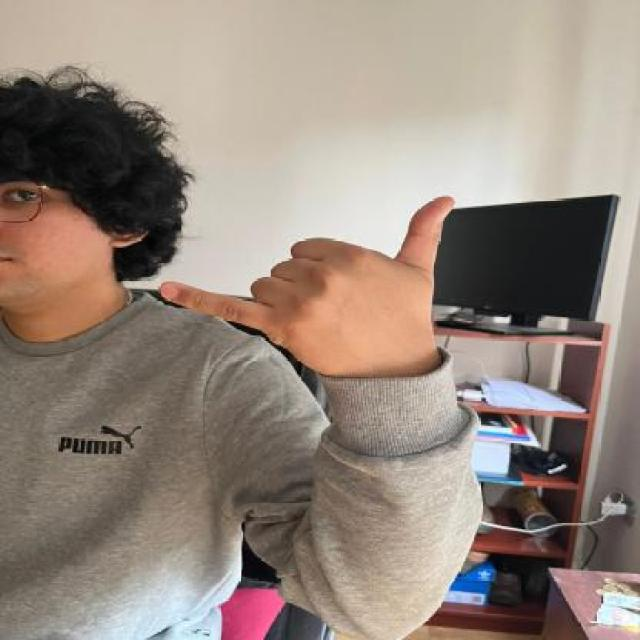Y: (149, 184, 457, 371)
